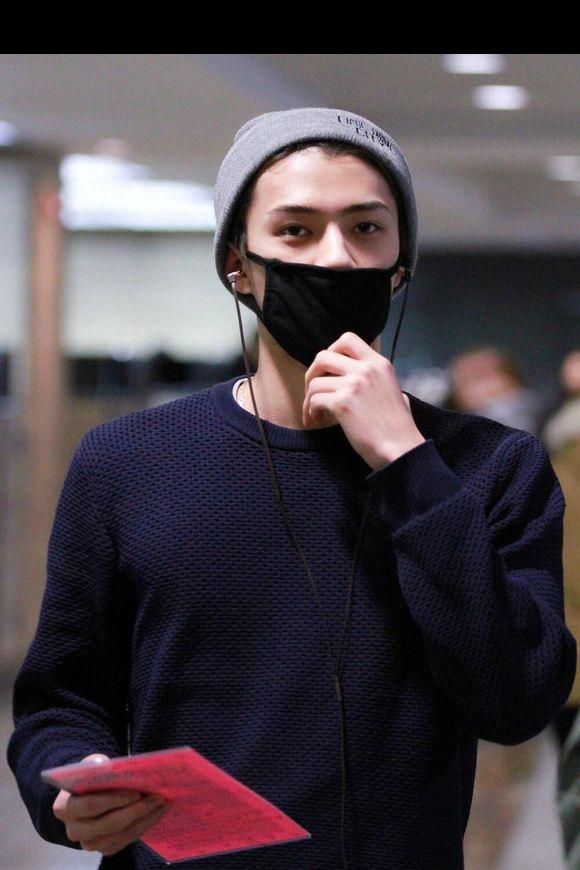WRONG: (250, 185, 410, 355)
